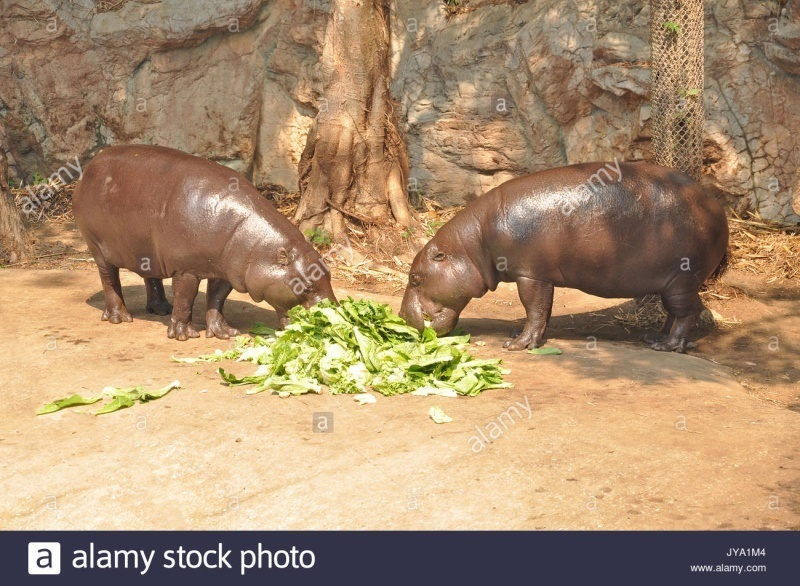hipopotamo: (393, 157, 730, 356), (62, 140, 340, 336)
